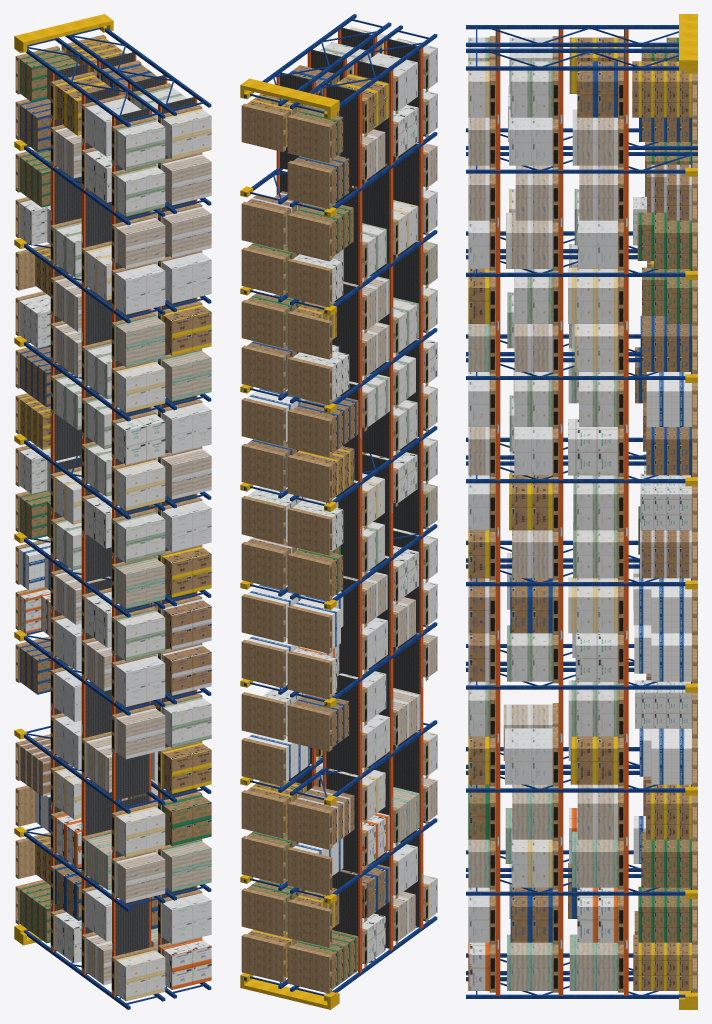
The model's file is racks_e5_n.gltf.
3 views of the same model, side by side, from view 1: azimuth 30°, elevation 25°; view 2: azimuth 150°, elevation 25°; view 3: azimuth 270°, elevation 25° (orthographic). The views are drawn at different scales.
Parts seen in each view (by area): view 1: racks_e5_n; view 2: racks_e5_n; view 3: racks_e5_n.
Boxes of the visible parts, x1,y1,x2,y2 form: racks_e5_n: (14, 14, 211, 1009); racks_e5_n: (240, 14, 437, 1009); racks_e5_n: (466, 14, 697, 1009).
Bounding box in the file's own units: 2.6 × 24.86 × 5.5.
Materials: 21 (21 with a texture image).
